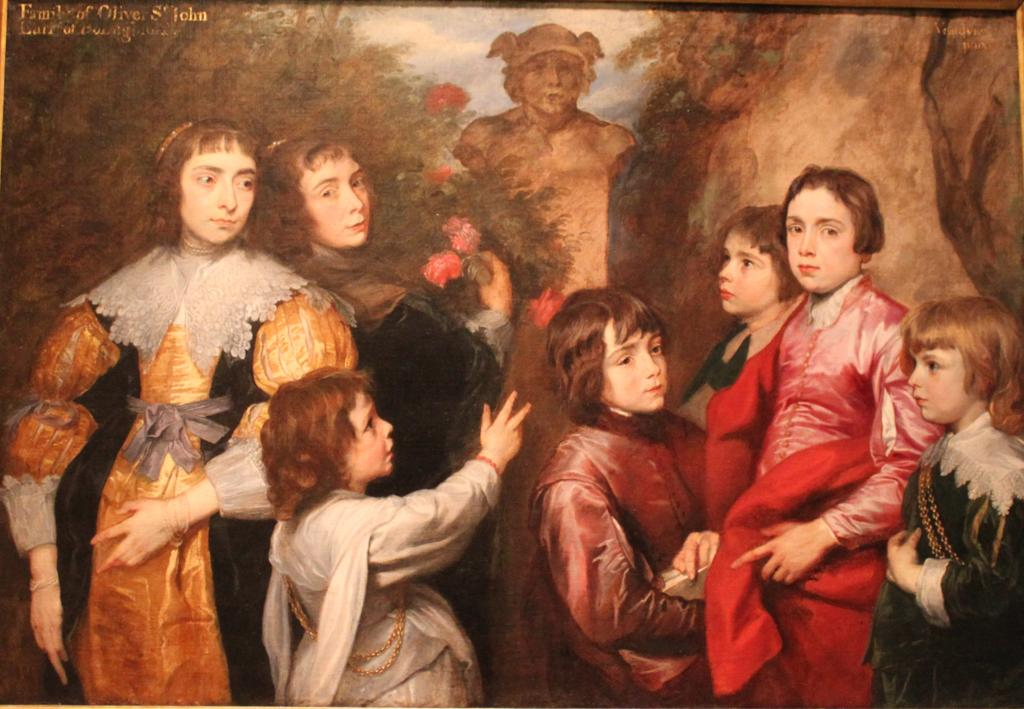face: (178, 136, 257, 244), (786, 187, 862, 291), (595, 315, 667, 411), (302, 152, 368, 248), (909, 335, 974, 419), (718, 230, 777, 312), (342, 392, 395, 474), (522, 41, 580, 113)
